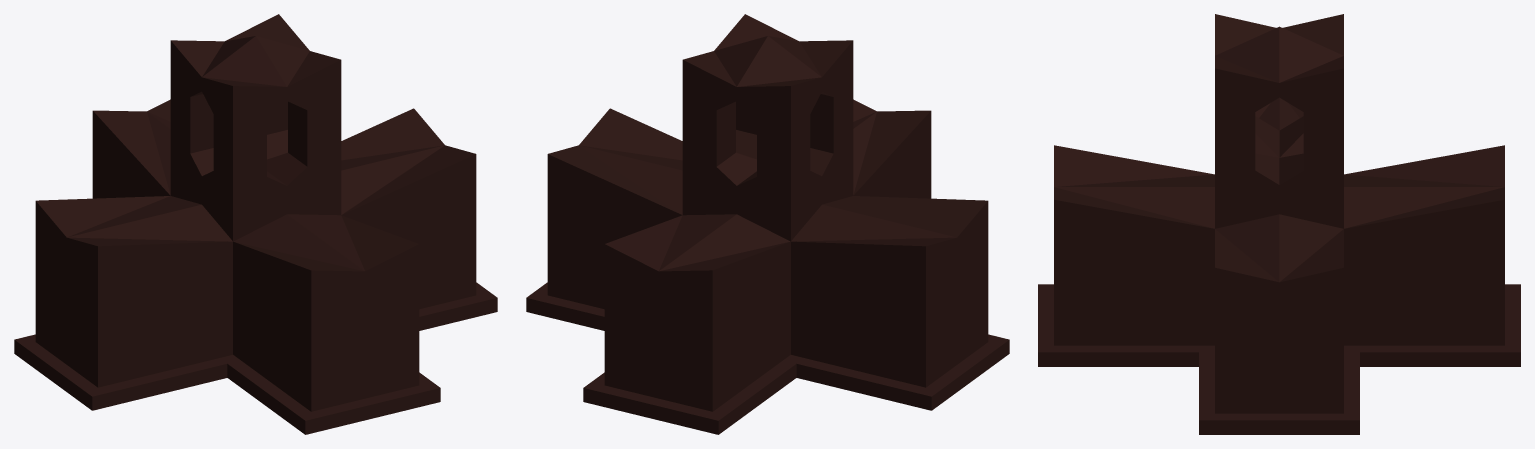
Rendered from Infirmary.glb.
3 views of the same model, side by side, from view 1: azimuth 30°, elevation 25°; view 2: azimuth 150°, elevation 25°; view 3: azimuth 270°, elevation 25° (orthographic). The views are drawn at different scales.
Parts seen in each view (by area): view 1: 5Infirmary; view 2: 5Infirmary; view 3: 5Infirmary.
Boxes of the visible parts, <box> form: 5Infirmary: <box>14,14,497,434</box>; 5Infirmary: <box>526,14,1009,434</box>; 5Infirmary: <box>1038,14,1520,434</box>.
Size of the model in its own units: 3 by 2.1 by 3.
